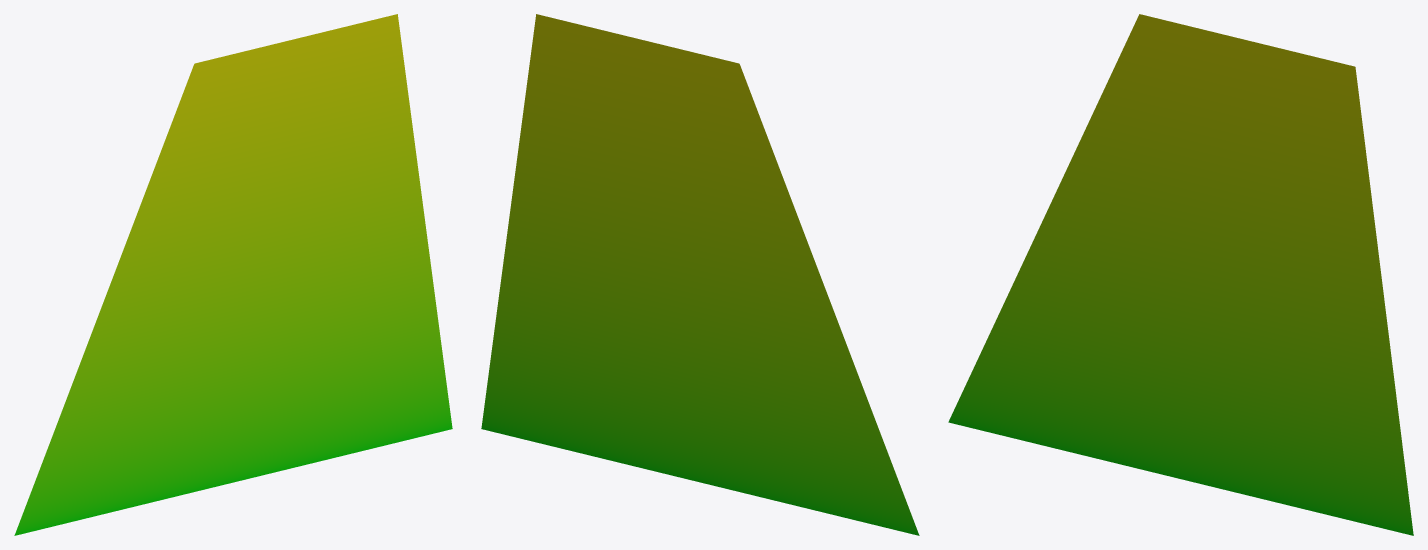
File: Broadleaf Plantain_LOD4_Var3_sfhjc.fbx
The picture shows the model from 3 angles, left to right: view 1: azimuth 30°, elevation 25°; view 2: azimuth 150°, elevation 25°; view 3: azimuth 330°, elevation 25°; orthographic projection. The views are drawn at different scales.
Visible parts, largest first — view 1: _8ae1_Var3_LOD4; view 2: _8ae1_Var3_LOD4; view 3: _8ae1_Var3_LOD4.
Part boxes in pixels (bbox=[...]): _8ae1_Var3_LOD4: bbox=[14, 14, 452, 535]; _8ae1_Var3_LOD4: bbox=[481, 14, 919, 535]; _8ae1_Var3_LOD4: bbox=[948, 14, 1413, 535].
Bounding box in the file's own units: 22.15 × 20.69 × 7.23e-06.
